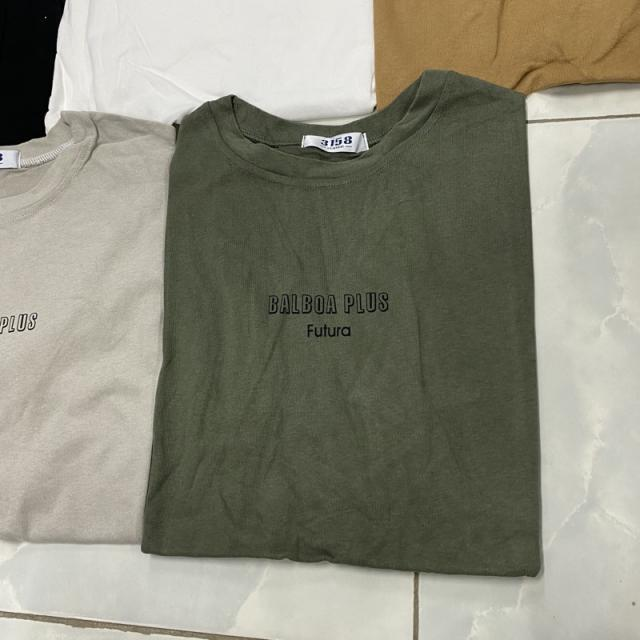Shirt: (140, 70, 553, 586)
